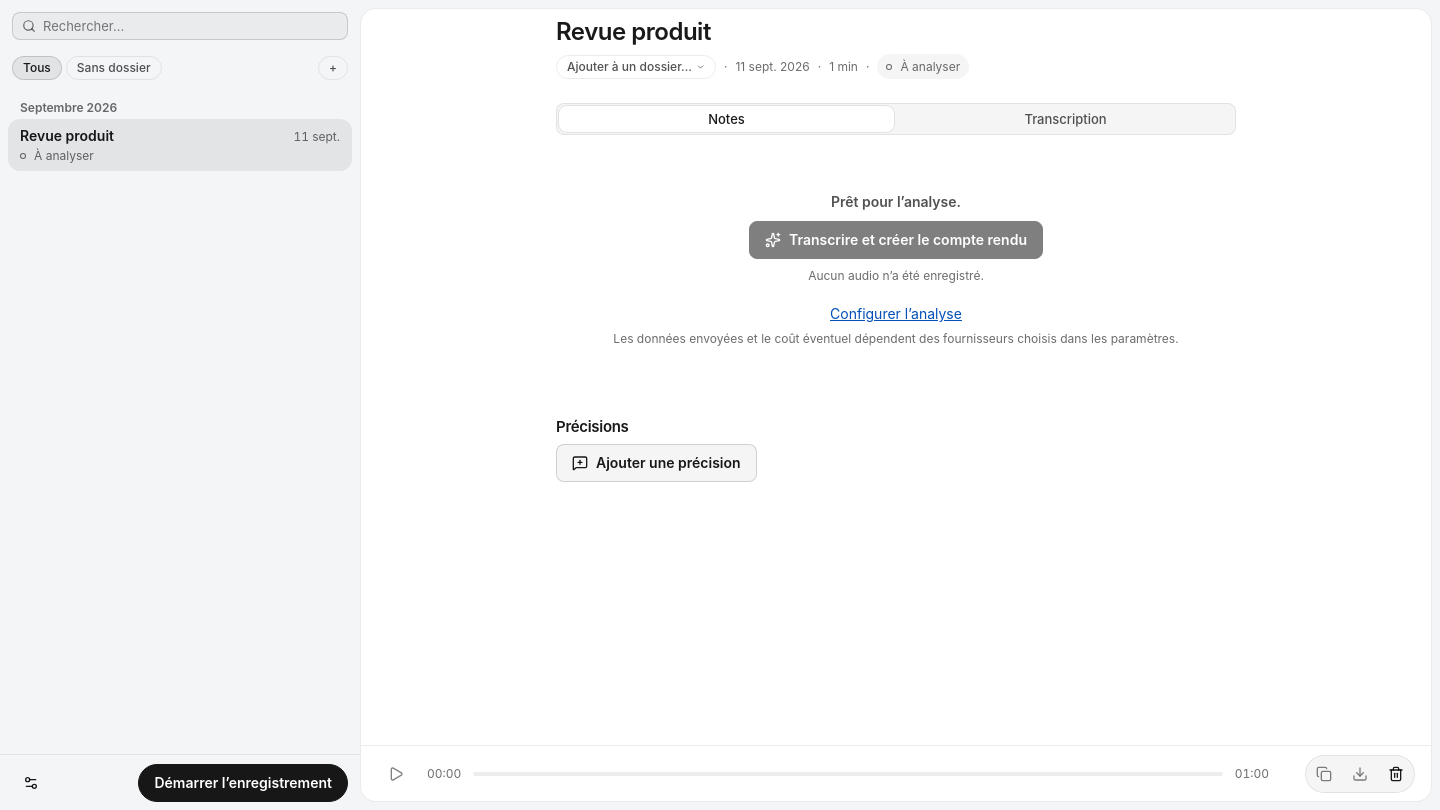
Scenario: Meeting list and card › filters persisted meetings without creating sample data
Check: the option "Revue produit 11 sept. À analyser" is shown, box x1=8 y1=119 x2=352 y2=171
Step 1. Type "Budget" into the search field named "Rechercher une réunion" → {"x": 180, "y": 26}, box x1=12 y1=12 x2=348 y2=40
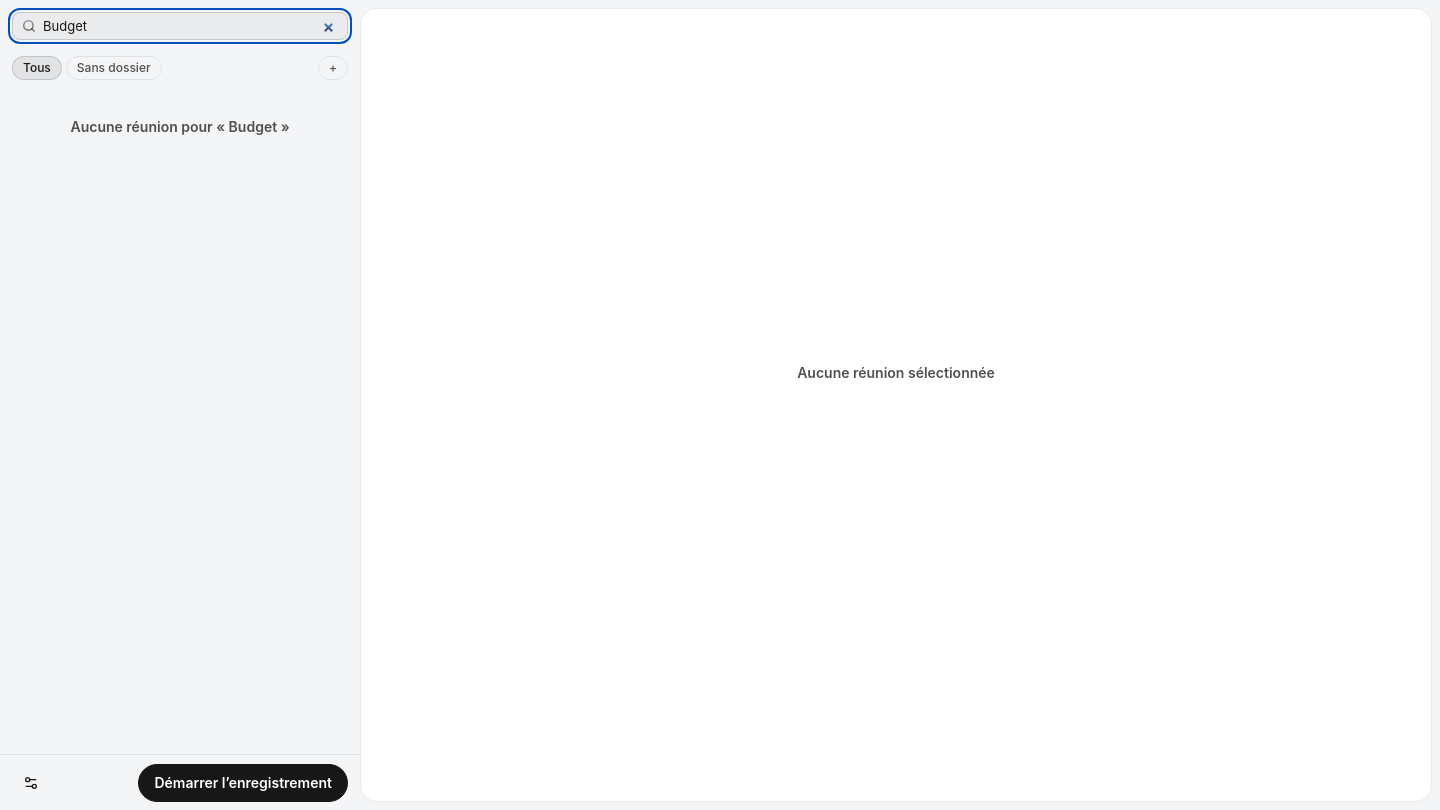
Check: the option is gone
Check: the text "Aucune réunion pour « Budget »" is shown, box x1=70 y1=116 x2=290 y2=138
